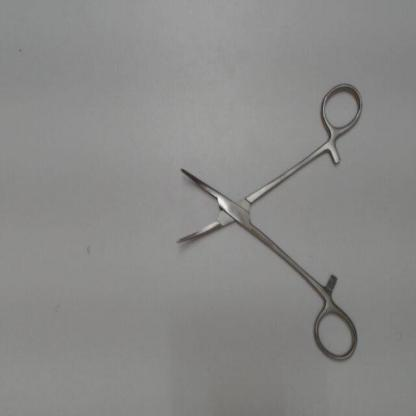Crile Artery Forceps: (169, 76, 367, 366)
